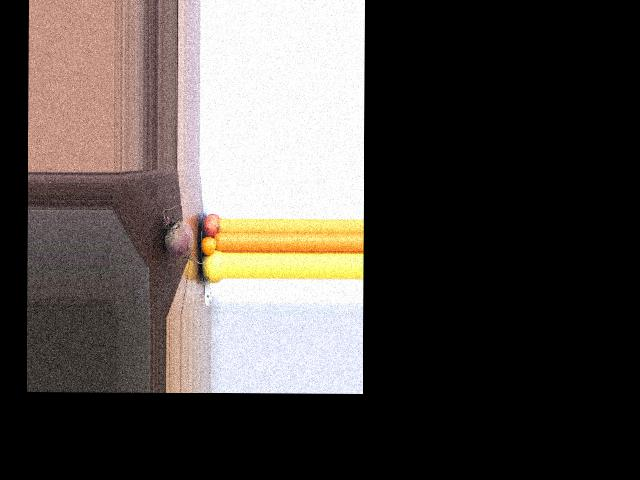beet: (162, 204, 207, 264)
